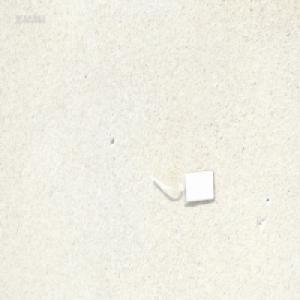LuggageTag: (148, 168, 214, 206)
